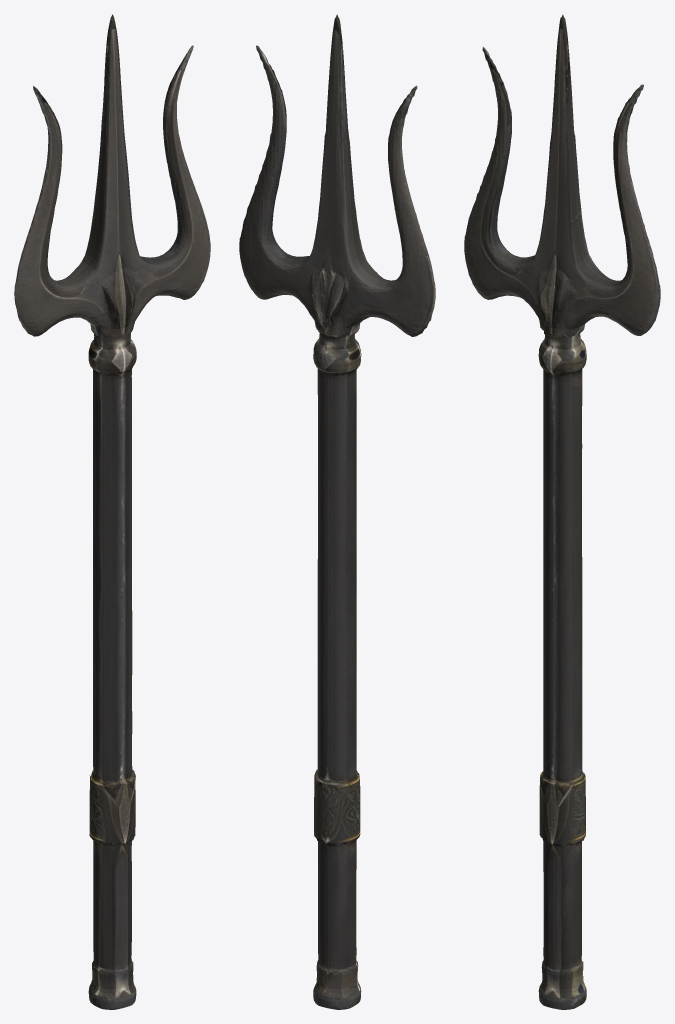
File: A_trident_featuring__0620194814_texture.fbx
3 views of the same model, side by side, from view 1: azimuth 30°, elevation 25°; view 2: azimuth 150°, elevation 25°; view 3: azimuth 330°, elevation 25° (orthographic).
Parts seen in each view (by area): view 1: temp; view 2: temp; view 3: temp.
Boxes of the visible parts, x1,y1,x2,y2 form: temp: (14,14,210,1009); temp: (239,14,435,1009); temp: (464,14,660,1009).
Size of the model in its own units: 41.59 by 200 by 10.1.
Materials: 1 (1 with a texture image).
